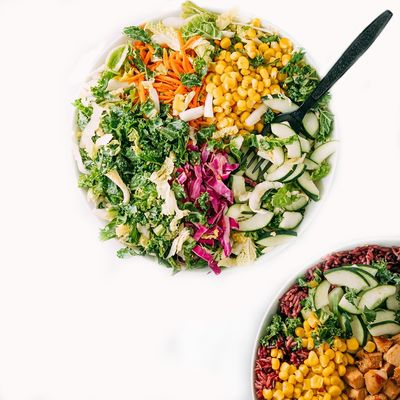curry: (278, 48, 320, 104), (260, 313, 301, 347)
salad: (272, 10, 393, 143)
sushi: (3, 0, 396, 399), (69, 3, 398, 310), (250, 240, 400, 399)
